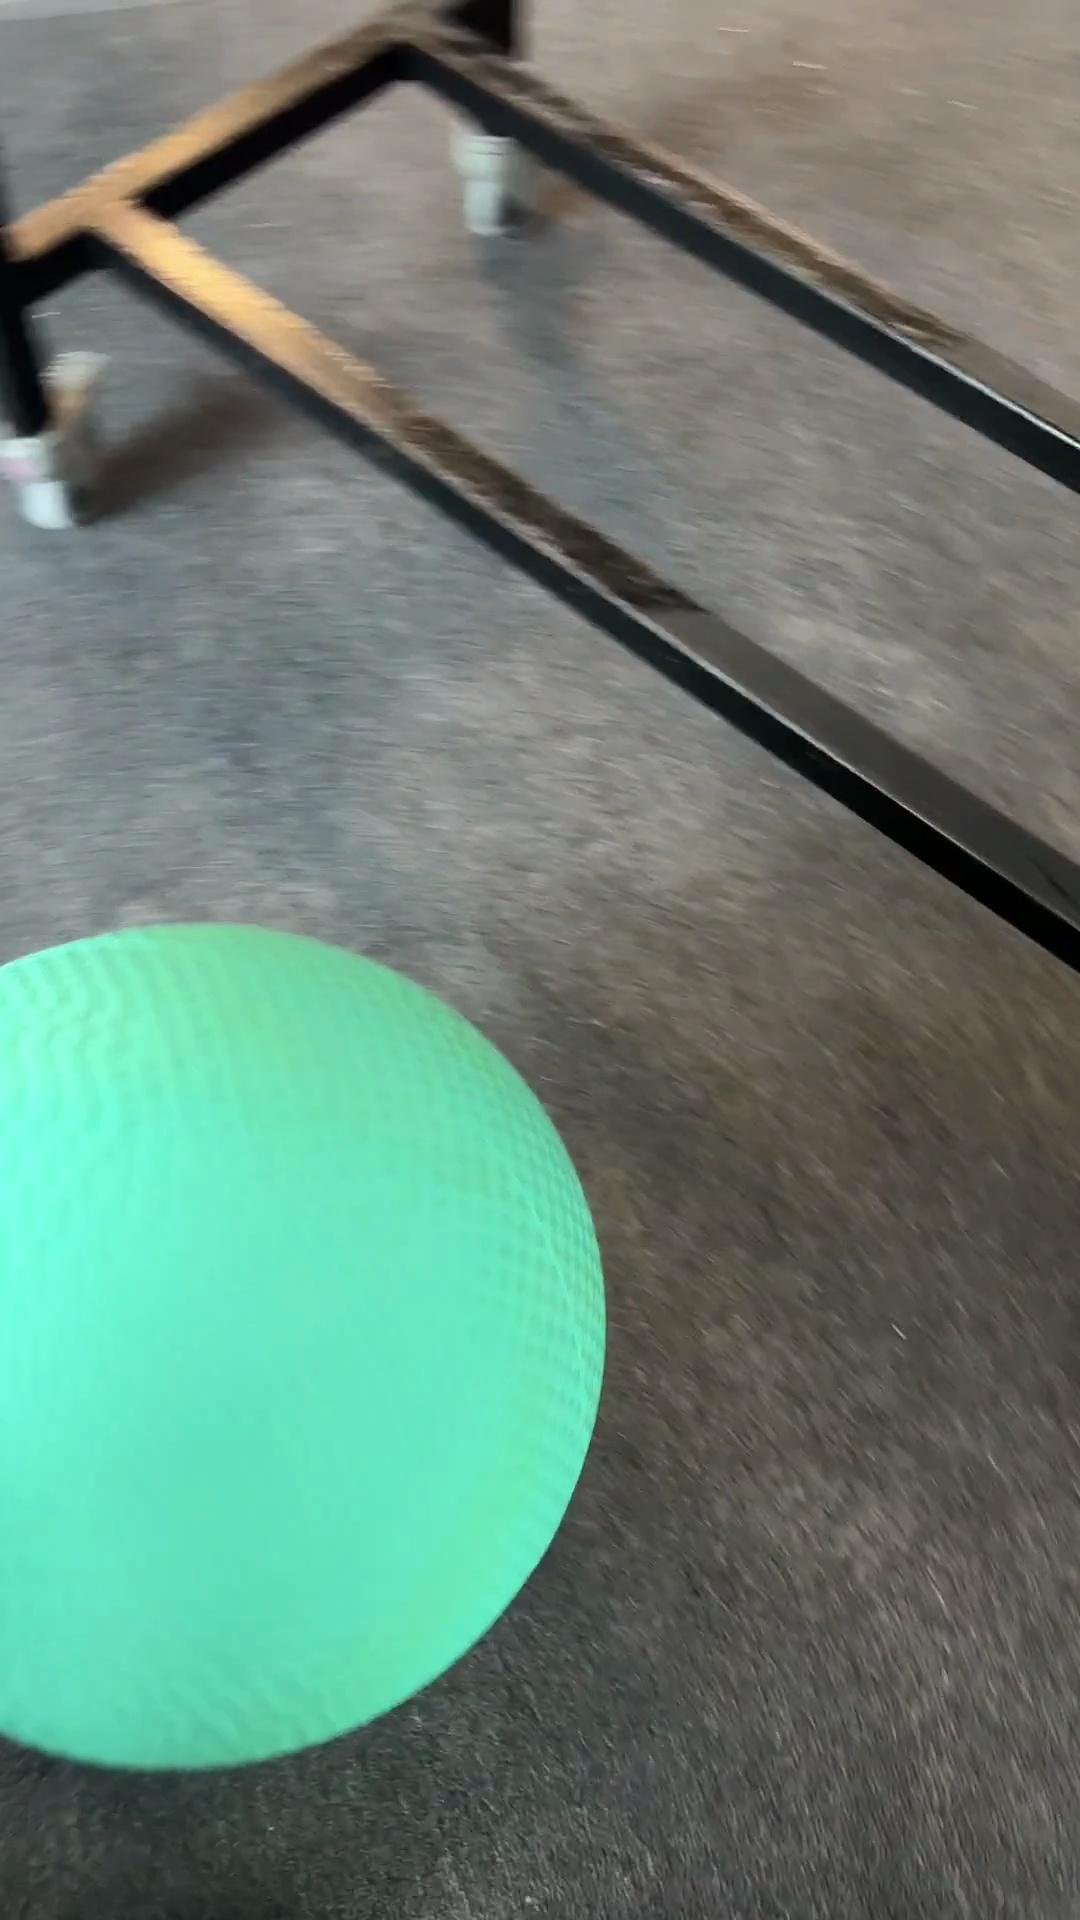ALGAE: (1, 916, 608, 1774)
